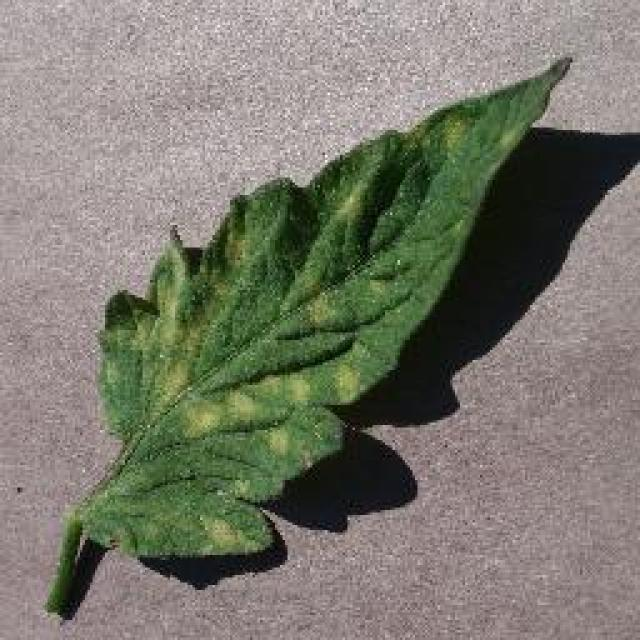Tomato___Leaf_Mold: (50, 58, 568, 612)
